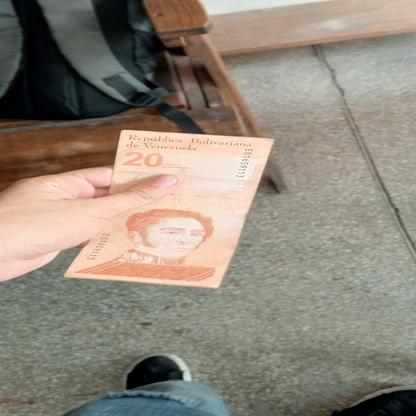twenty-front-vef: (64, 130, 274, 288)
